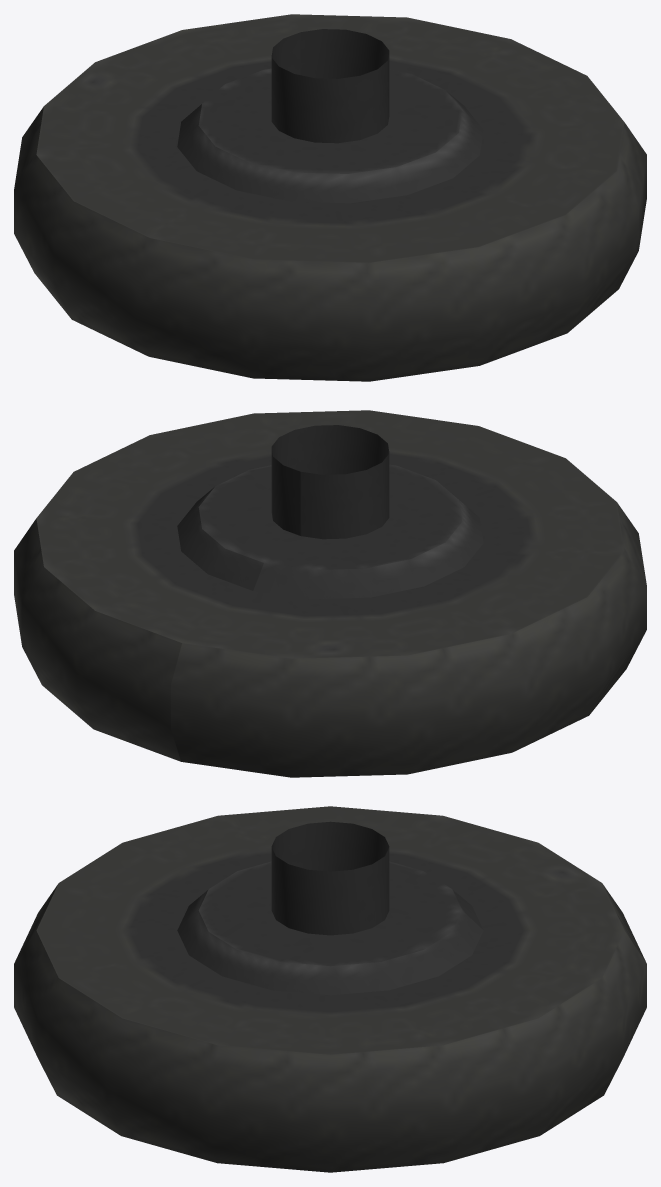
File: right_rear.obj
3 views of the same model, one above another, from view 1: azimuth 30°, elevation 25°; view 2: azimuth 150°, elevation 25°; view 3: azimuth 270°, elevation 25° (orthographic).
Bounding box in the file's own units: 0.0422 × 0.0163 × 0.0422.
1 material, 1 textured.
